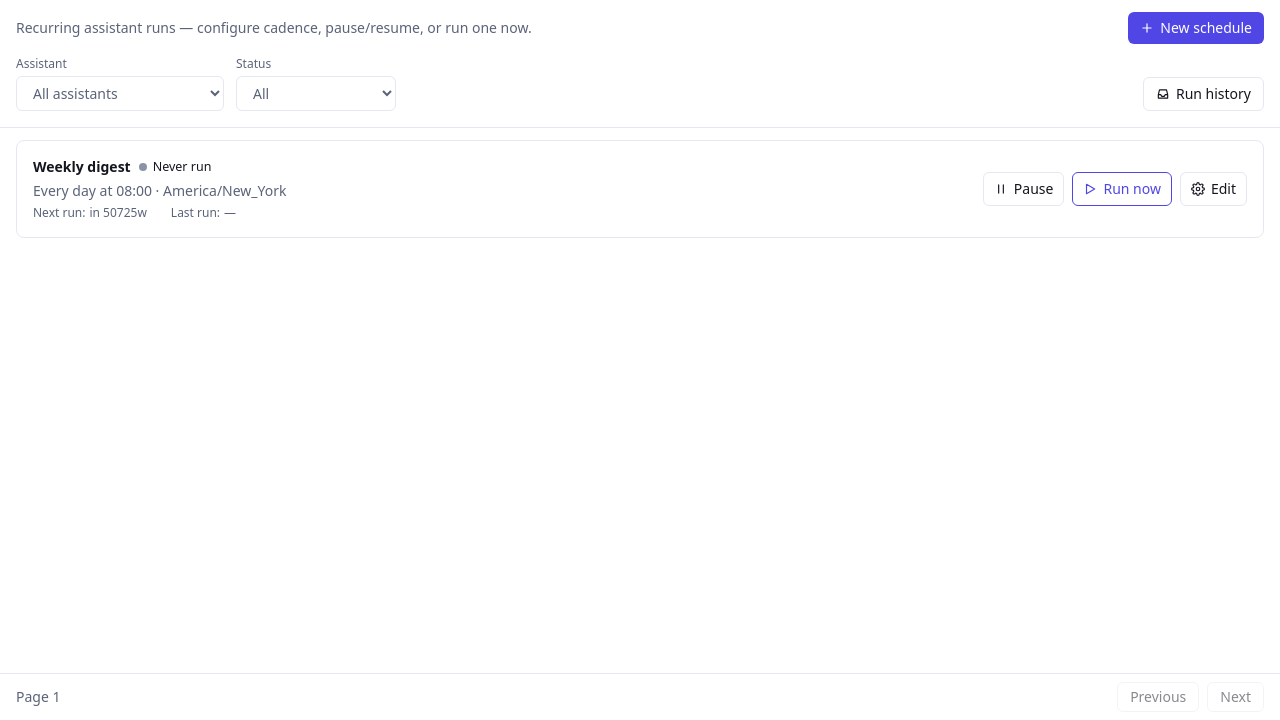
Test case: ScheduleList › surfaces a friendly message when run-now conflicts (409)
Expected: the list named "schedules" is shown, [16, 140, 1264, 238]
Step 1. Click the button with aria-label "run weekly digest now" → (1122, 189), box [1072, 172, 1172, 206]
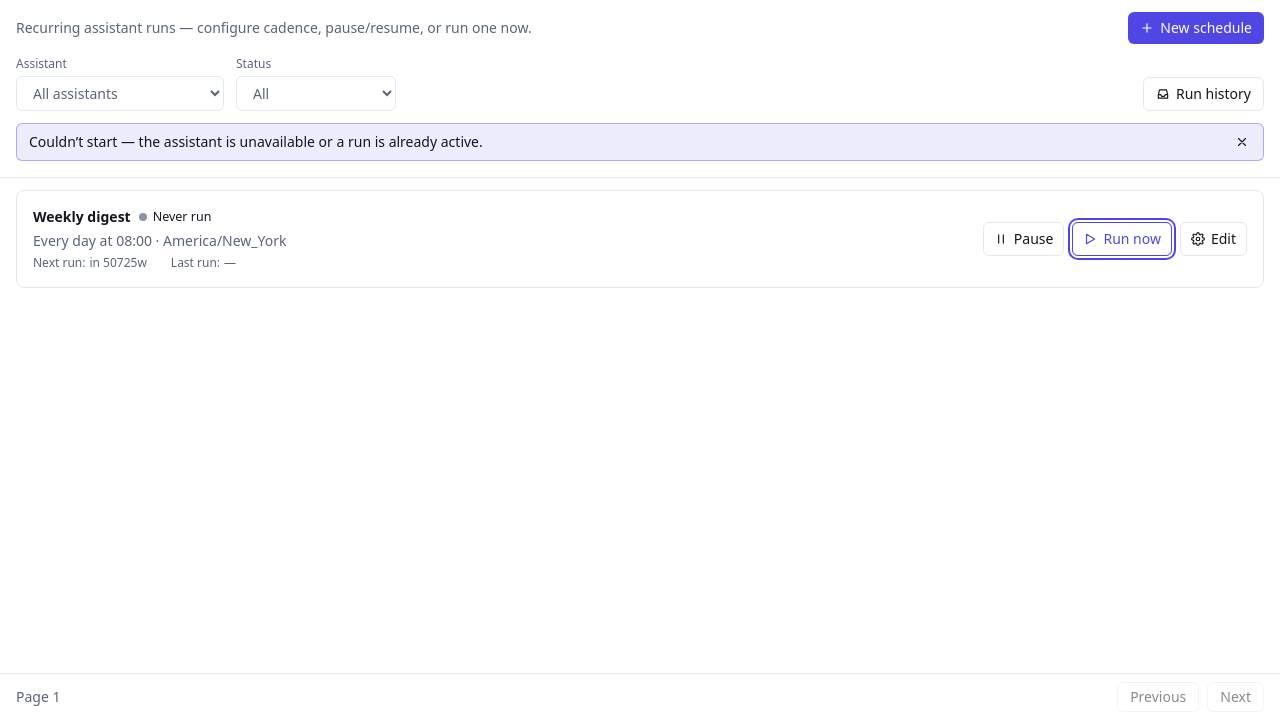
Expected: the text "assistant is unavailable or a run is already active" is shown, [29, 132, 483, 151]
